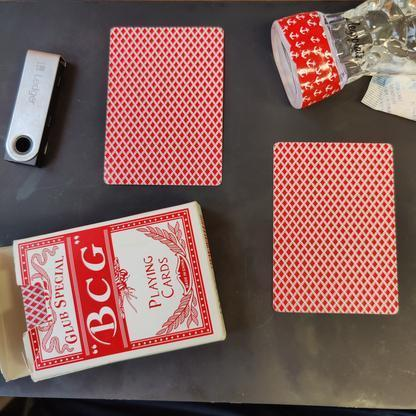card: (262, 129, 408, 327), (93, 13, 233, 194)
